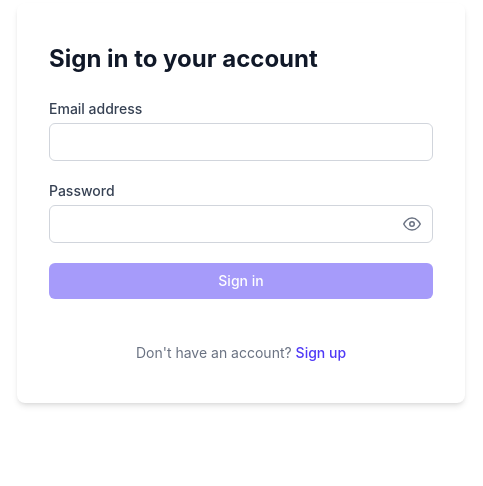
Scenario: LoginForm › AC-20: network error → form-level error shown
Step 1. Type "user@example.com" into the field labelled "Email address" → point(241, 142), box [49, 123, 433, 161]
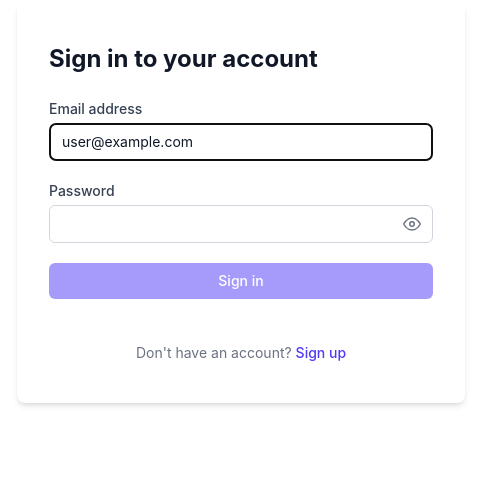
Step 2. Type "hunter2" into the password field labelled "Password" → point(241, 224), box [49, 205, 433, 243]
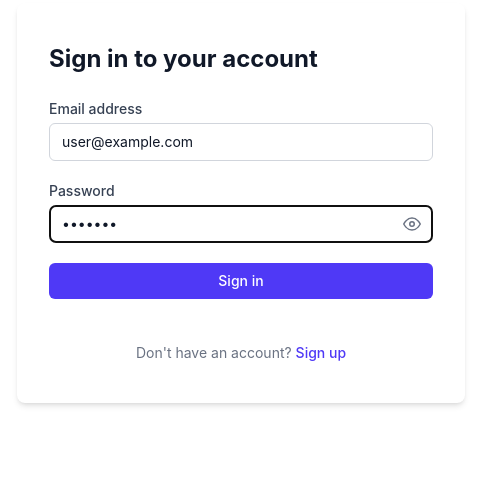
Step 3. Click the button "Sign in" → point(241, 281), box [49, 263, 433, 299]
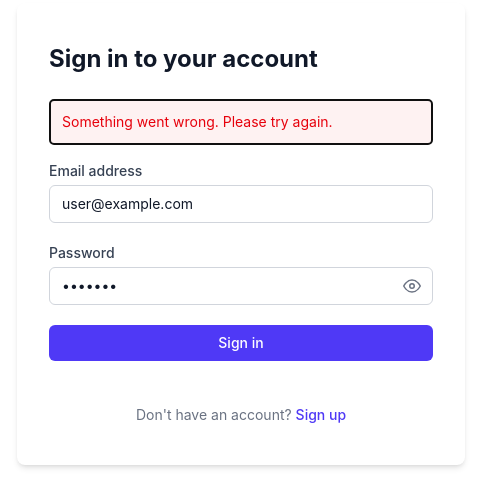
Expected: the message reads "Something went wrong. Please try again.", [62, 113, 333, 130]
